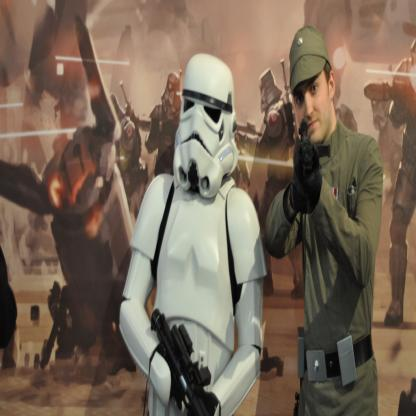Helmet: (173, 61, 241, 189), (161, 74, 184, 118)
